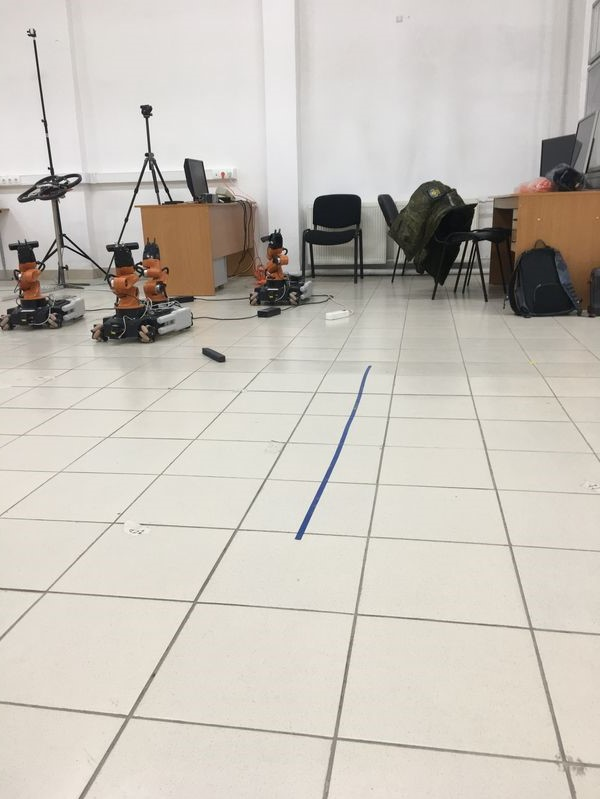socket: (318, 302, 357, 326)
